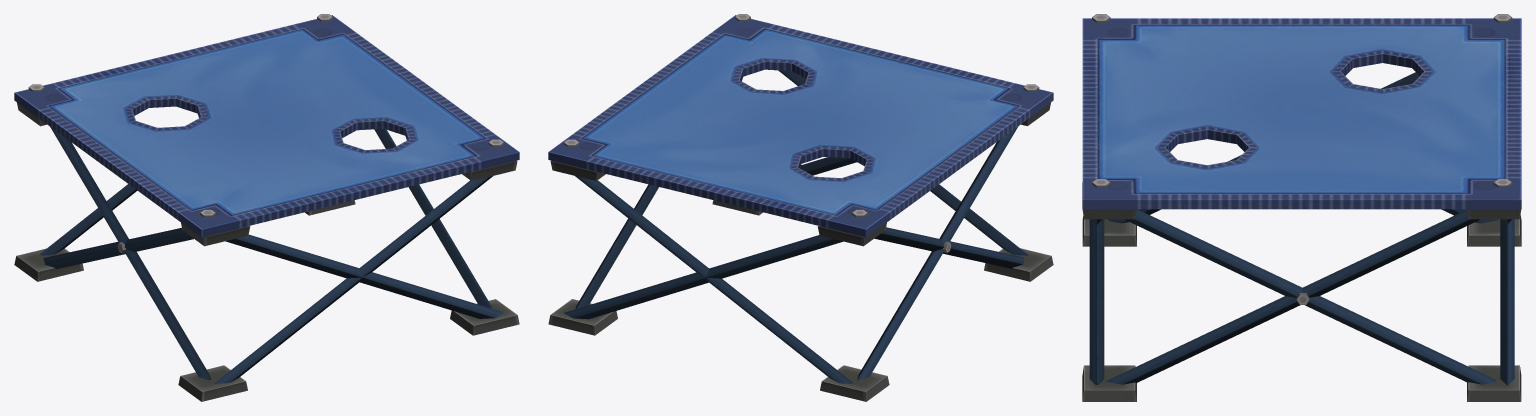
File: my_military_01_table_01.glb
3 views of the same model, side by side, from view 1: azimuth 30°, elevation 25°; view 2: azimuth 150°, elevation 25°; view 3: azimuth 270°, elevation 25° (orthographic). The views are drawn at different scales.
Parts seen in each view (by area): view 1: my_military_01_table_01; view 2: my_military_01_table_01; view 3: my_military_01_table_01.
Part boxes in pixels (x1,y1,x2,y2): my_military_01_table_01: (14,14,519,401); my_military_01_table_01: (548,14,1053,401); my_military_01_table_01: (1082,14,1521,401).
Bounding box in the file's own units: 0.00427 × 0.00233 × 0.00436.
1 material, 1 textured.
